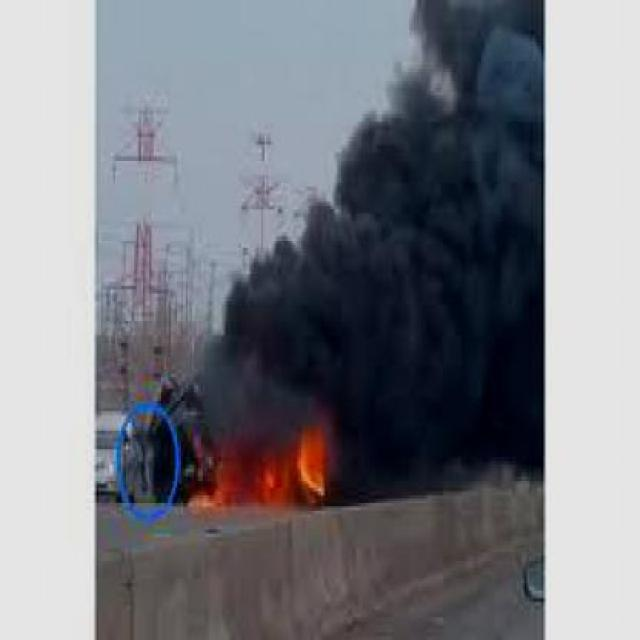Fire: (186, 400, 331, 522)
Smoke: (192, 0, 638, 397)
